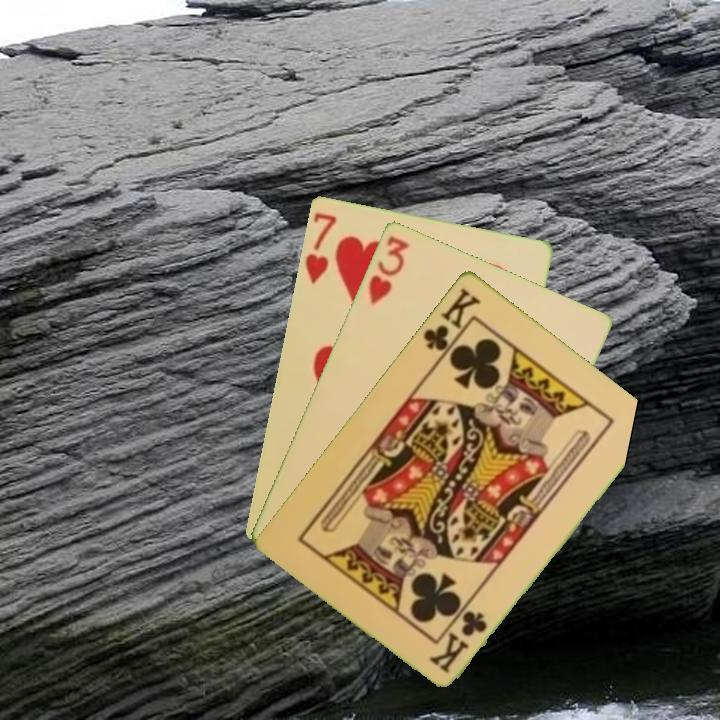3h: (364, 232, 413, 307)
7h: (301, 208, 339, 287)
Kc: (419, 283, 484, 363), (427, 606, 490, 676)
